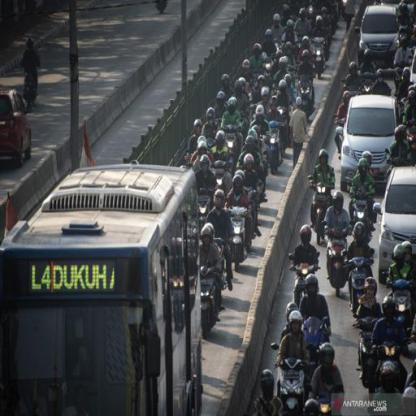bus: (0, 166, 203, 415)
motorbike: (273, 355, 310, 415), (322, 224, 352, 291), (226, 202, 256, 262), (387, 272, 415, 335), (342, 253, 373, 308), (374, 333, 405, 376), (311, 177, 327, 233), (288, 262, 317, 290)
